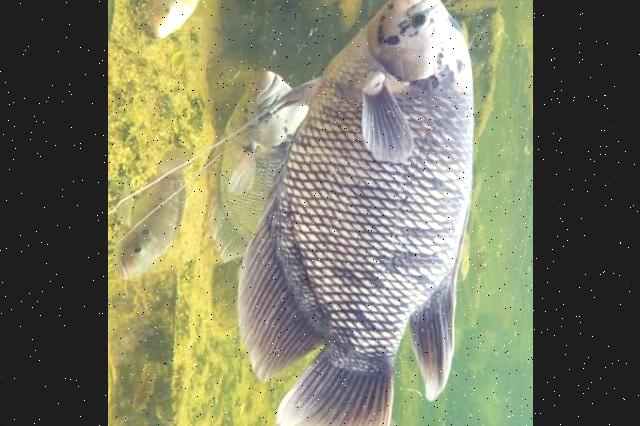Mulut: (372, 0, 457, 23)
Sirip Anal: (225, 157, 332, 390)
Sirip Dada: (334, 64, 424, 184)
Sirip Ekor: (257, 342, 407, 426)
Sirip Perut: (107, 56, 340, 251)
Sirip Punggung: (388, 242, 480, 412)
